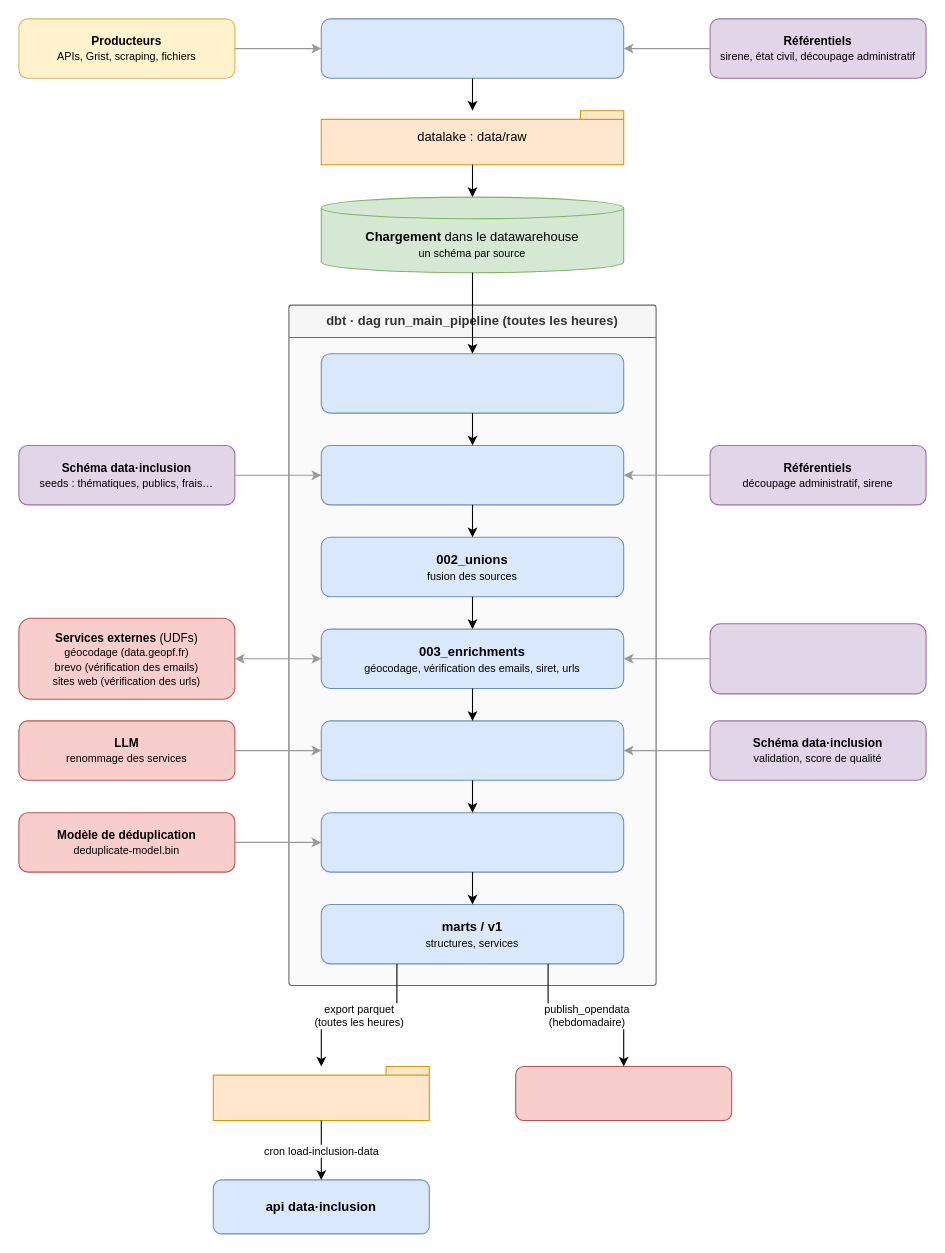
Image size: 945x1253. Some labels were removed from this diagram. The box of each missing label's shape, as (x1, y1, x2, y2) in pixels:
004_finals validation, score de qualité: (320, 720, 624, 780)
005_deduplicate détection des doublons: (320, 812, 624, 872)
data.gouv.fr (open data): (515, 1065, 732, 1120)
datalake : data/marts: (212, 1065, 429, 1120)
Extraction un dag par source: (320, 18, 624, 78)
intermediate / 001_mappings alignement sur le schéma data·inclusion: (320, 444, 624, 505)
Référentiels sirene (siret), état civil (prénoms), découpage administratif: (709, 623, 926, 694)
staging nettoyage par source: (320, 353, 624, 413)
